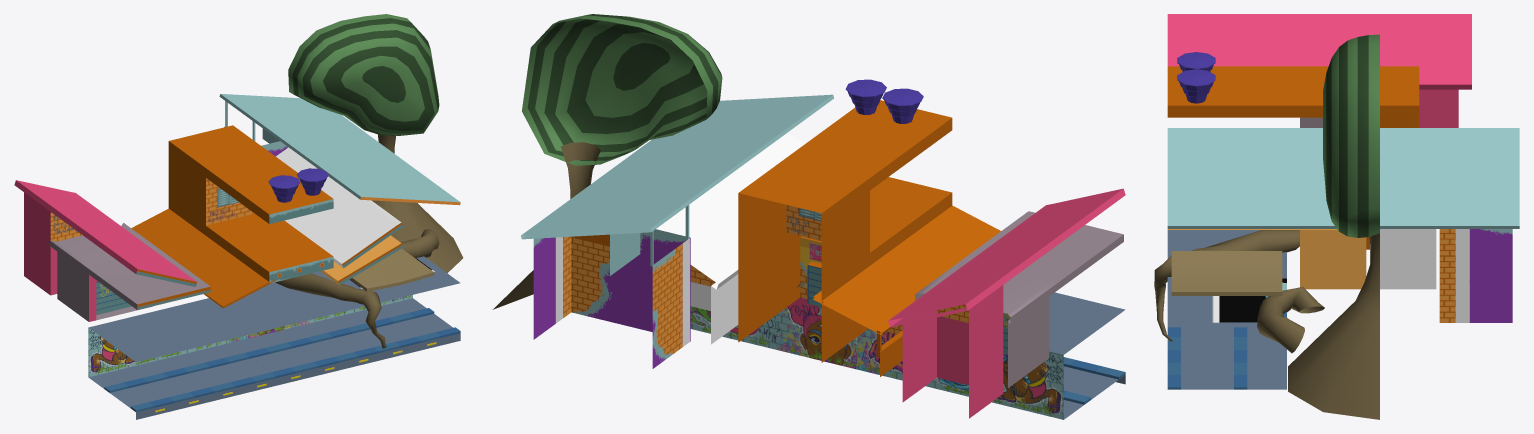
The model's file is Fase 1 (J1 Colorida).fbx.
The picture shows the model from 3 angles, left to right: view 1: azimuth 30°, elevation 25°; view 2: azimuth 150°, elevation 25°; view 3: azimuth 270°, elevation 25°; orthographic projection. The views are drawn at different scales.
Parts seen in each view (by area): view 1: Rua, Brecho_P4, pSphere1, Muro_sUperior, Casa_Aberta1, casa_3, Bar, casa_2, Brecho_P2, pCylinder3, Muro1, pCylinder1 (+5 smaller); view 2: Casa_Aberta1, Brecho_P4, pSphere1, casa_3, Brecho_P2, Muro1, casa_2, Bar, Muro_sUperior, Rua, pCylinder3, Caixa_de_agua1 (+2 smaller); view 3: Casa_Aberta1, casa_3, pSphere1, Brecho_P4, pCylinder3, Rua, pCube8, Muro_sUperior, casa_1, casa_2, pCylinder2, pCylinder1 (+2 smaller).
Boxes of the visible parts, x1,y1,x2,y2 form: Rua: [88, 298, 460, 419]; Brecho_P4: [168, 125, 333, 283]; pSphere1: [288, 14, 439, 135]; Muro_sUperior: [88, 256, 460, 362]; Casa_Aberta1: [219, 94, 460, 205]; casa_3: [14, 180, 196, 295]; Bar: [50, 223, 210, 321]; casa_2: [276, 147, 402, 268]; Brecho_P2: [131, 208, 276, 308]; pCylinder3: [372, 134, 463, 273]; Muro1: [88, 295, 412, 377]; pCylinder1: [275, 273, 386, 348]; Casa_Aberta1: [521, 94, 834, 368]; Brecho_P4: [738, 100, 952, 362]; pSphere1: [522, 14, 722, 165]; casa_3: [888, 188, 1125, 418]; Brecho_P2: [813, 205, 1000, 335]; Muro1: [690, 297, 1063, 419]; casa_2: [656, 132, 804, 344]; Bar: [915, 211, 1123, 387]; Muro_sUperior: [1049, 292, 1125, 354]; Rua: [1063, 357, 1125, 419]; pCylinder3: [492, 142, 600, 309]; Caixa_de_agua1: [882, 88, 923, 123]; Casa_Aberta1: [1167, 128, 1519, 322]; casa_3: [1167, 14, 1471, 127]; pSphere1: [1323, 34, 1379, 237]; Brecho_P4: [1167, 66, 1419, 249]; pCylinder3: [1288, 233, 1379, 419]; Rua: [1167, 327, 1286, 389]; pCube8: [1171, 251, 1282, 295]; Muro_sUperior: [1167, 230, 1286, 327]; casa_1: [1167, 229, 1366, 289]; casa_2: [1370, 229, 1436, 289]; pCylinder2: [1257, 287, 1324, 353]; pCylinder1: [1154, 230, 1299, 342].
Size of the model in its own units: 43.87 by 27.74 by 27.59.
